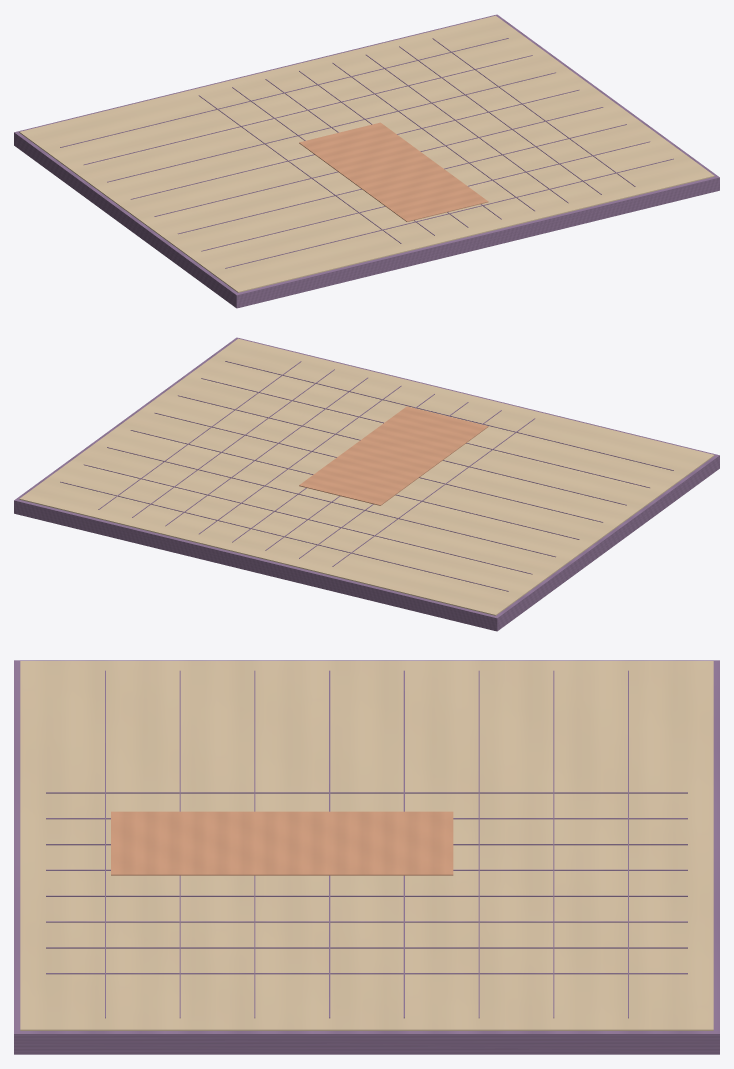
Rendered from atlas100-s086-a07.lod1.glb.
3 renders of one model, top to bottom at view 1: azimuth 30°, elevation 25°; view 2: azimuth 150°, elevation 25°; view 3: azimuth 270°, elevation 25°, orthographic. The views are drawn at different scales.
Visible parts, largest first — view 1: atlas100-s086-a07:part-001, atlas100-s086-a07:part-000, atlas100-s086-a07:part-021, atlas100-s086-a07:part-015, atlas100-s086-a07:part-014, atlas100-s086-a07:part-013, atlas100-s086-a07:part-020, atlas100-s086-a07:part-019, atlas100-s086-a07:part-017, atlas100-s086-a07:part-016, atlas100-s086-a07:part-018; view 2: atlas100-s086-a07:part-001, atlas100-s086-a07:part-000, atlas100-s086-a07:part-021, atlas100-s086-a07:part-014, atlas100-s086-a07:part-013, atlas100-s086-a07:part-020, atlas100-s086-a07:part-015, atlas100-s086-a07:part-016, atlas100-s086-a07:part-019, atlas100-s086-a07:part-018, atlas100-s086-a07:part-017; view 3: atlas100-s086-a07:part-001, atlas100-s086-a07:part-000, atlas100-s086-a07:part-021, atlas100-s086-a07:part-005, atlas100-s086-a07:part-009, atlas100-s086-a07:part-010, atlas100-s086-a07:part-011, atlas100-s086-a07:part-012, atlas100-s086-a07:part-014, atlas100-s086-a07:part-015.
Part boxes in pixels (x1,y1,x2,y2): atlas100-s086-a07:part-001: [19, 15, 714, 292]; atlas100-s086-a07:part-000: [14, 14, 719, 308]; atlas100-s086-a07:part-021: [299, 122, 488, 221]; atlas100-s086-a07:part-015: [107, 72, 555, 182]; atlas100-s086-a07:part-014: [84, 55, 532, 164]; atlas100-s086-a07:part-013: [60, 38, 508, 147]; atlas100-s086-a07:part-020: [225, 158, 673, 268]; atlas100-s086-a07:part-019: [201, 141, 650, 251]; atlas100-s086-a07:part-017: [154, 107, 603, 216]; atlas100-s086-a07:part-016: [130, 89, 579, 199]; atlas100-s086-a07:part-018: [178, 124, 626, 234]; atlas100-s086-a07:part-001: [19, 338, 714, 615]; atlas100-s086-a07:part-000: [14, 337, 719, 631]; atlas100-s086-a07:part-021: [299, 406, 488, 505]; atlas100-s086-a07:part-014: [83, 464, 532, 574]; atlas100-s086-a07:part-013: [60, 481, 508, 591]; atlas100-s086-a07:part-020: [225, 361, 673, 470]; atlas100-s086-a07:part-015: [107, 447, 555, 557]; atlas100-s086-a07:part-016: [130, 430, 579, 539]; atlas100-s086-a07:part-019: [201, 378, 649, 487]; atlas100-s086-a07:part-018: [178, 395, 626, 505]; atlas100-s086-a07:part-017: [154, 412, 603, 522]; atlas100-s086-a07:part-001: [20, 661, 713, 1030]; atlas100-s086-a07:part-000: [14, 660, 719, 1054]; atlas100-s086-a07:part-021: [111, 811, 453, 875]; atlas100-s086-a07:part-005: [46, 792, 687, 793]; atlas100-s086-a07:part-009: [46, 895, 687, 896]; atlas100-s086-a07:part-010: [46, 921, 687, 922]; atlas100-s086-a07:part-011: [46, 947, 687, 948]; atlas100-s086-a07:part-012: [46, 973, 687, 974]; atlas100-s086-a07:part-014: [553, 670, 554, 1018]; atlas100-s086-a07:part-015: [478, 670, 479, 1018].
Bounding box in the file's own units: 13.02 × 0.404 × 10.4.
3 materials, 3 textured.
